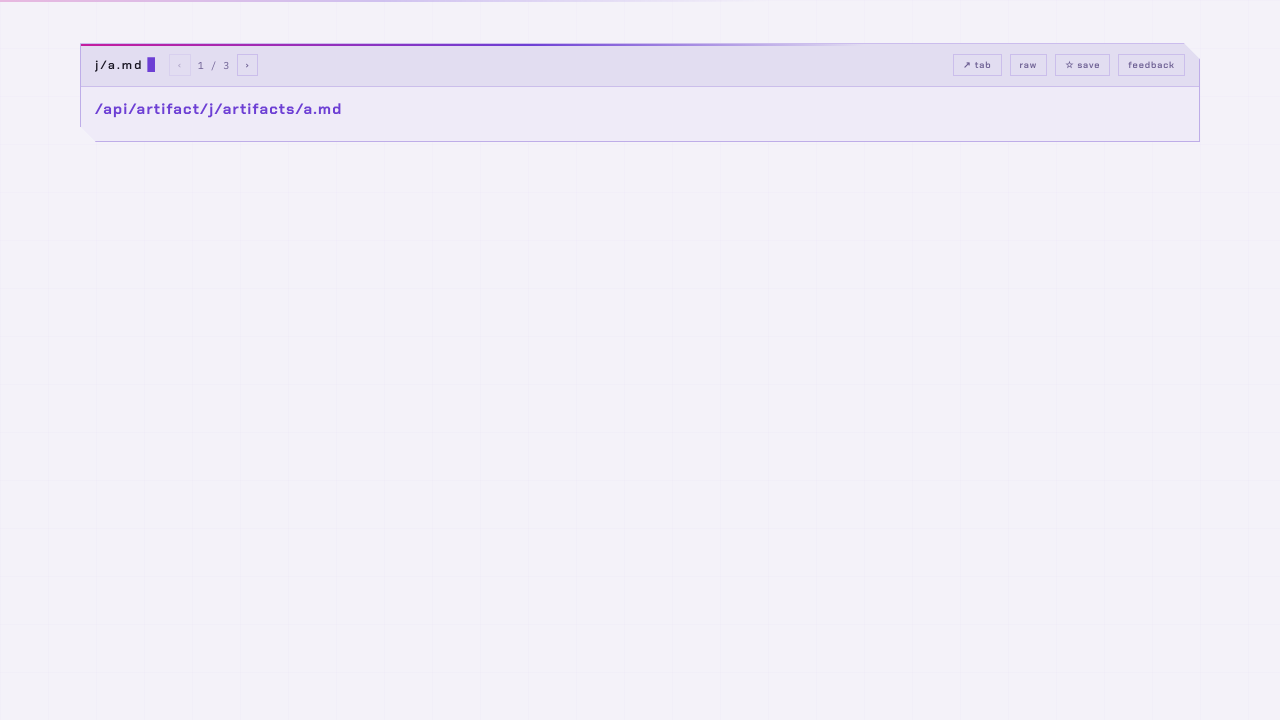
Test: stepping › keeps focus on › across a step
This screenshot has width=1280, height=720.
Step 1. Click the button "›" → (247, 65), box [237, 54, 258, 76]
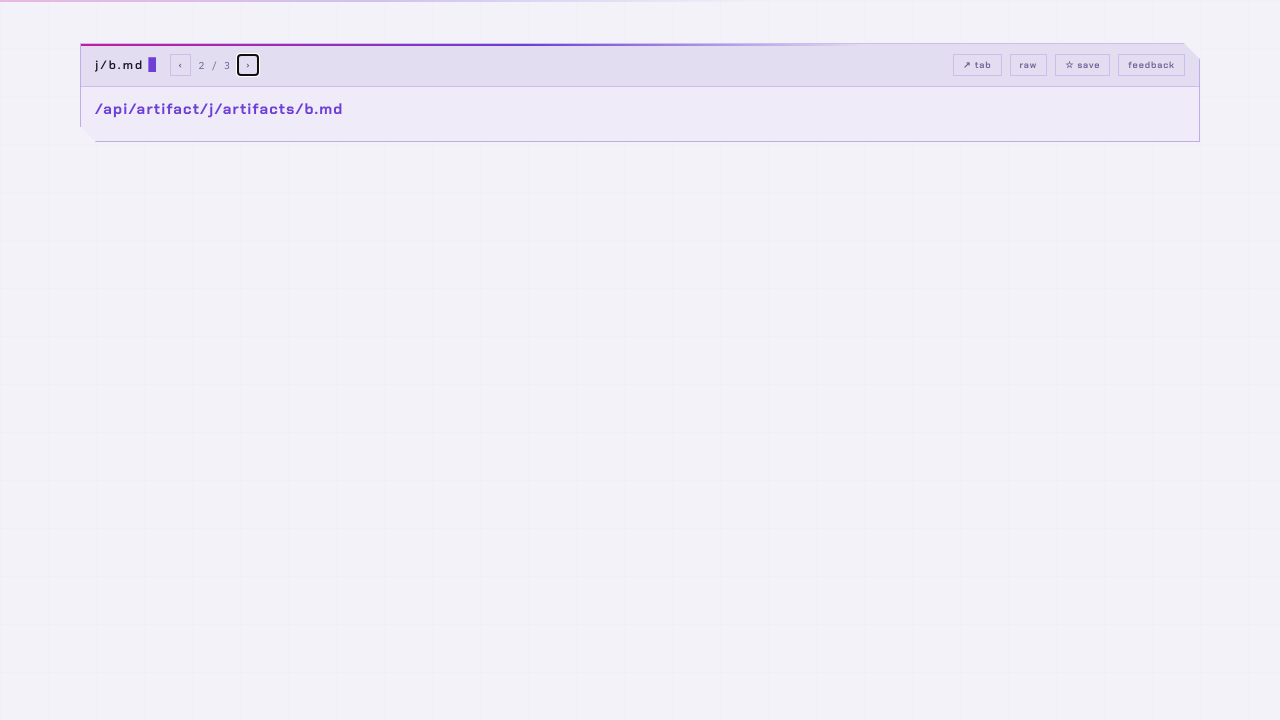
Check: the text "j/b.md" is shown, box [95, 57, 160, 73]
